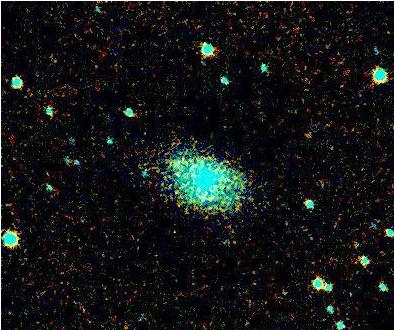star: (294, 121, 324, 151)
